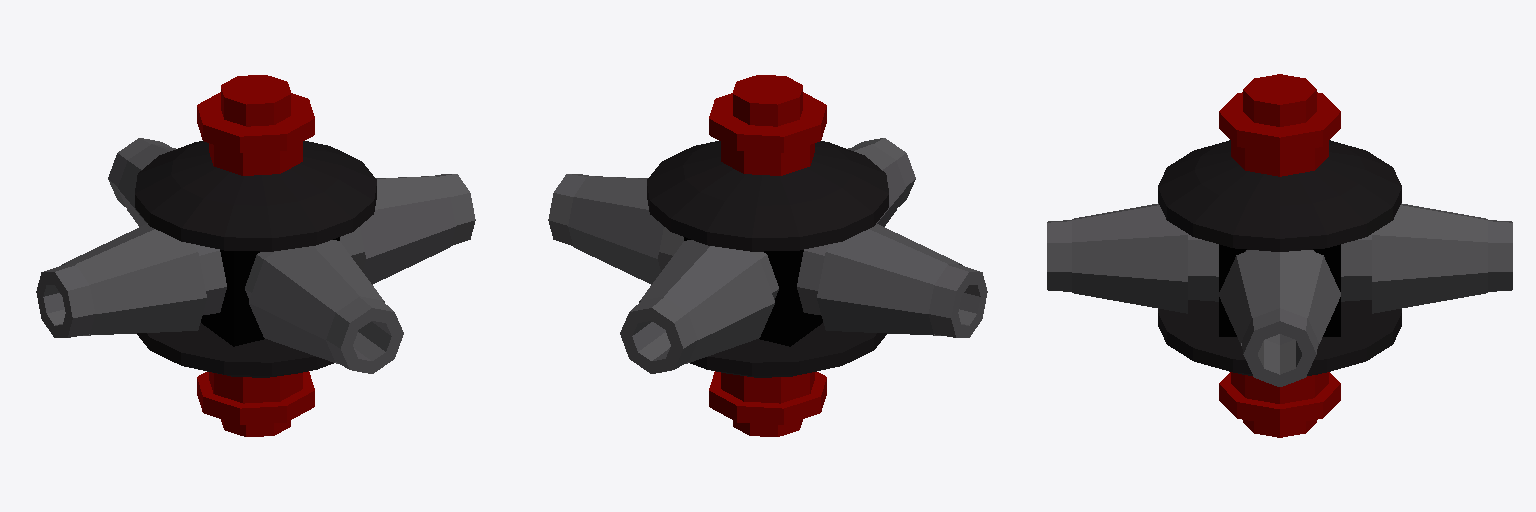
The model's file is Detonator.obj.
The picture shows the model from 3 angles: view 1: azimuth 30°, elevation 25°; view 2: azimuth 150°, elevation 25°; view 3: azimuth 270°, elevation 25°; orthographic projection.
Visible parts, largest first — view 1: Detonator; view 2: Detonator; view 3: Detonator.
Boxes of the visible parts, <box> form: Detonator: <box>36,75,475,436</box>; Detonator: <box>548,75,987,436</box>; Detonator: <box>1047,74,1512,437</box>.
Size of the model in its own units: 1.29 by 1.02 by 1.29.